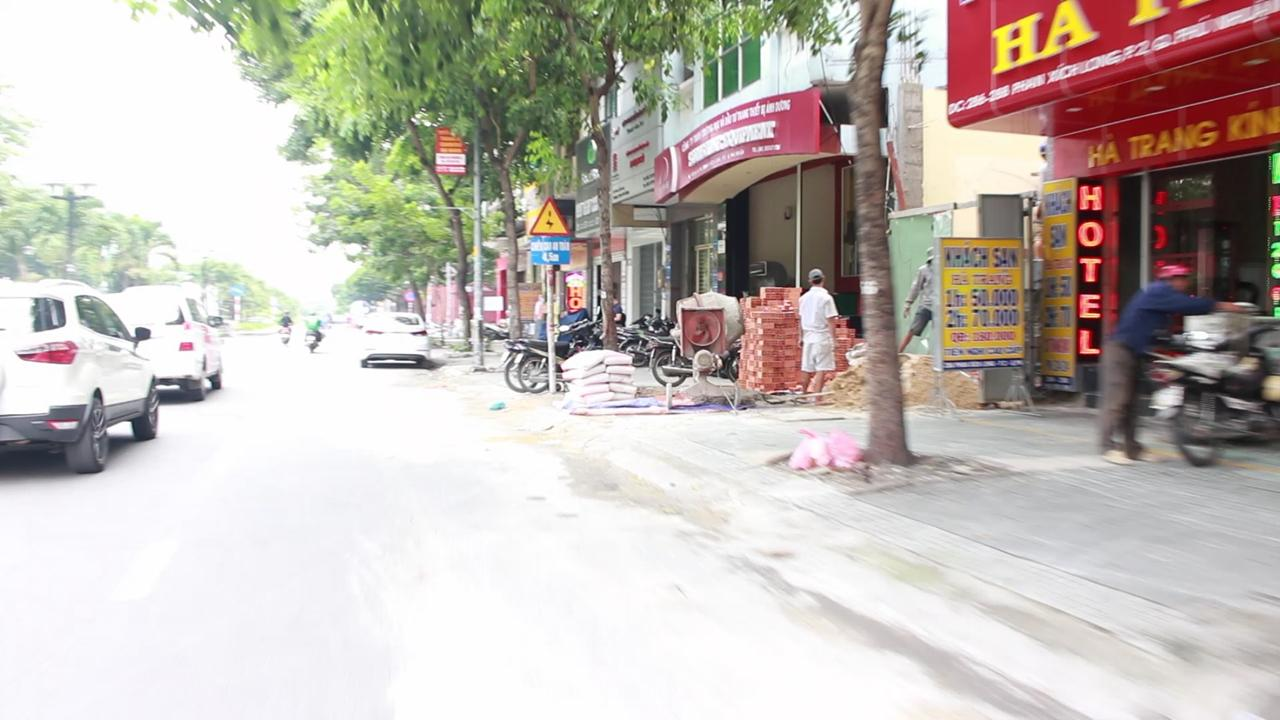P.123b: (526, 193, 574, 238)
